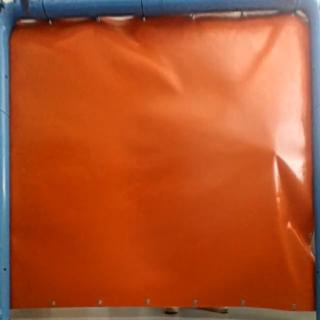Hit-hRxx: (266, 144, 282, 158)
